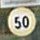limite 50: (5, 6, 37, 37)
